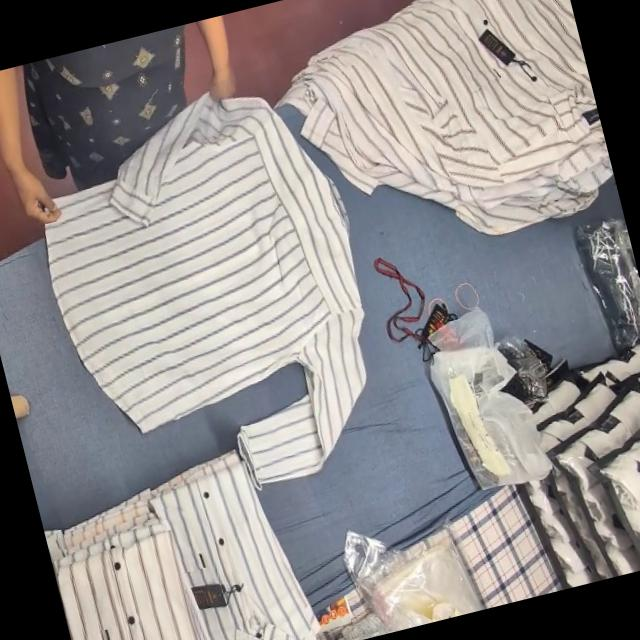new-garment: (45, 96, 364, 485)
